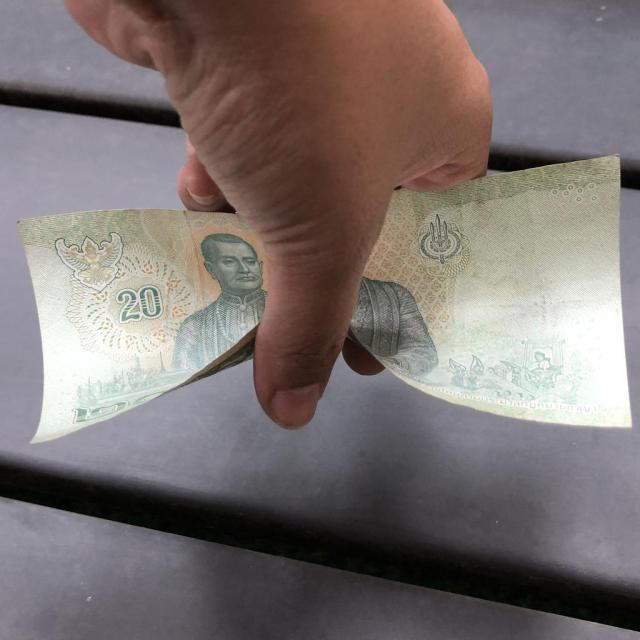THAI20: (348, 156, 631, 428), (18, 209, 269, 443)
